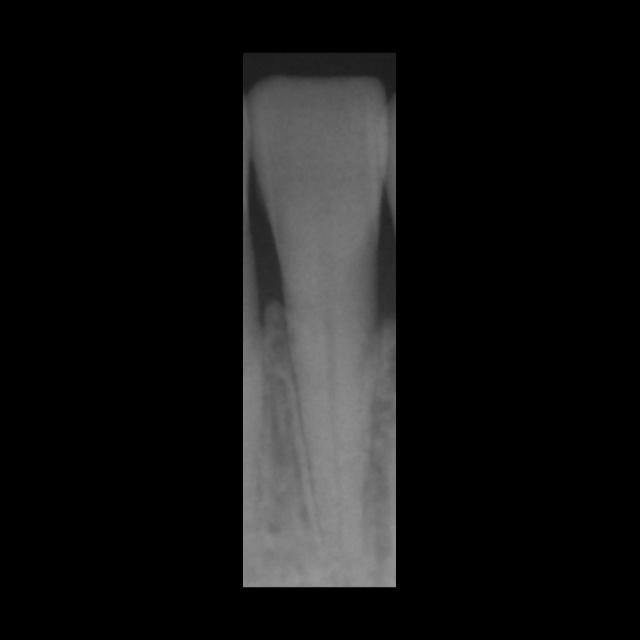tooth: (251, 79, 385, 558)
